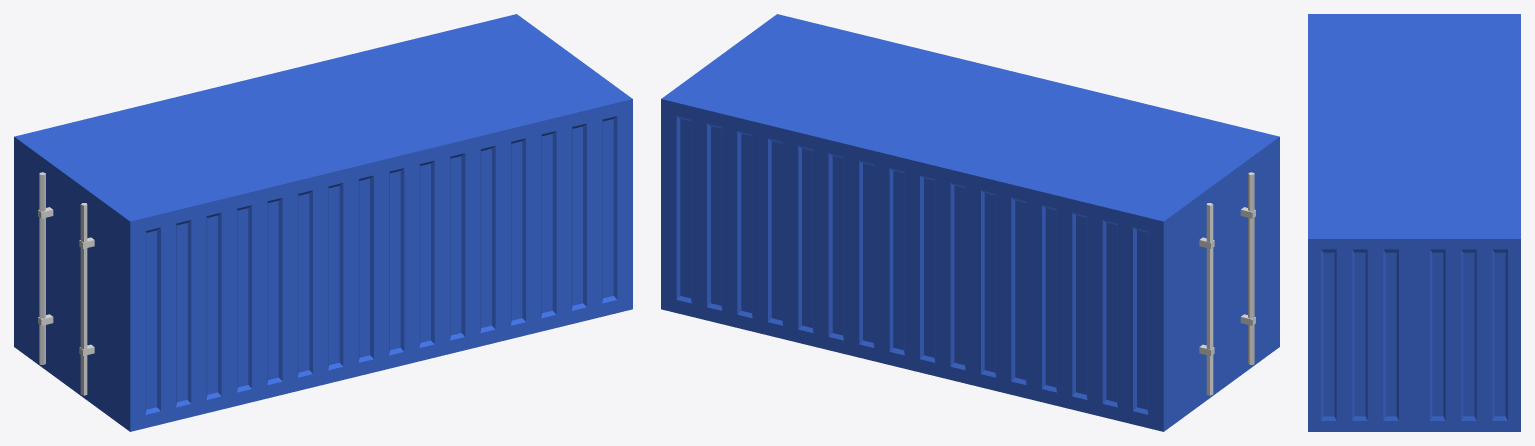
Rendered from container.fbx.
The picture shows the model from 3 angles, left to right: view 1: azimuth 30°, elevation 25°; view 2: azimuth 150°, elevation 25°; view 3: azimuth 270°, elevation 25°; orthographic projection. The views are drawn at different scales.
Visible parts, largest first — view 1: 立方体, 円柱; view 2: 立方体, 円柱; view 3: 立方体.
Part boxes in pixels (left/top/right/bottom): 立方体: left=14, top=14, right=632, bottom=431; 円柱: left=38, top=172, right=94, bottom=395; 立方体: left=661, top=14, right=1279, bottom=431; 円柱: left=1199, top=172, right=1255, bottom=395; 立方体: left=1308, top=14, right=1520, bottom=431.
Bounding box in the file's own units: 512 × 200 × 200.
